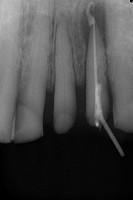Furcation Involvement: (79, 4, 107, 48)
